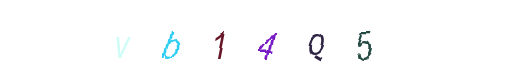1: (228, 0, 308, 80)
4: (237, 0, 317, 80)
5: (272, 0, 352, 80)
B: (214, 0, 294, 80)
Q: (272, 0, 352, 80)
V: (130, 0, 210, 80)
